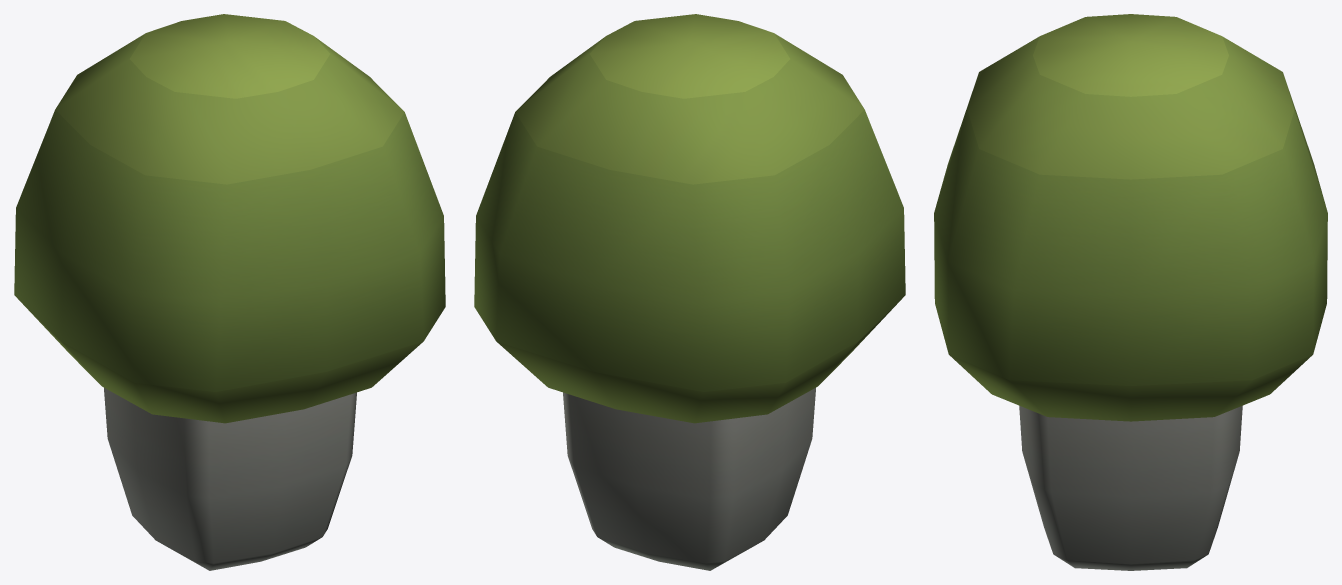
File: bush_plant_pot.fbx
3 renders of one model, left to right at view 1: azimuth 30°, elevation 25°; view 2: azimuth 150°, elevation 25°; view 3: azimuth 270°, elevation 25°, orthographic.
Visible parts, largest first — view 1: bush_plant_pot; view 2: bush_plant_pot; view 3: bush_plant_pot.
Part boxes in pixels (x1=…): bush_plant_pot: x1=14, y1=14, x2=445, y2=570; bush_plant_pot: x1=474, y1=14, x2=905, y2=570; bush_plant_pot: x1=934, y1=14, x2=1327, y2=570.
Bounding box in the file's own units: 72.42 × 102 × 72.42.
